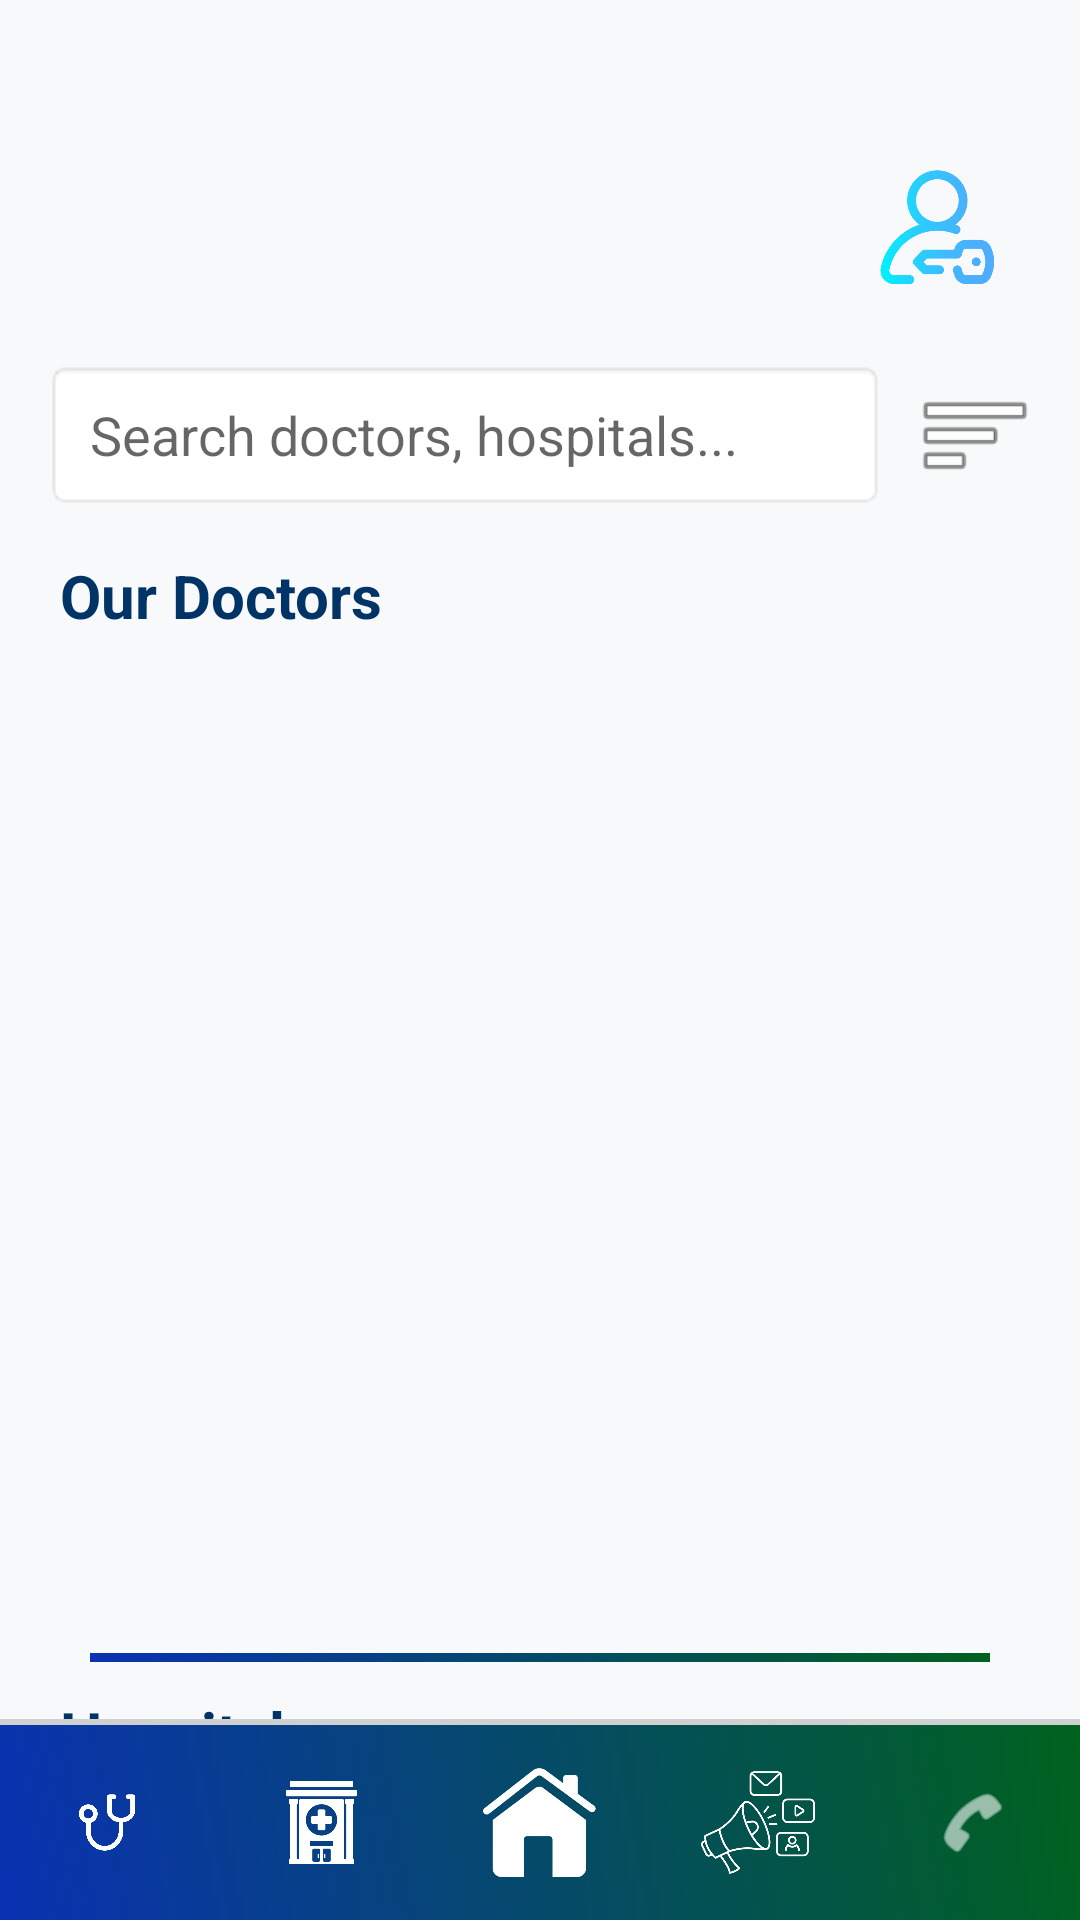

Named icons in this screenshot (1080px×1920px) and their centers, point (x, y):
home: point (514, 1822)
login: point (937, 227)
prom: point (758, 1822)
sort by size: point (975, 435)
